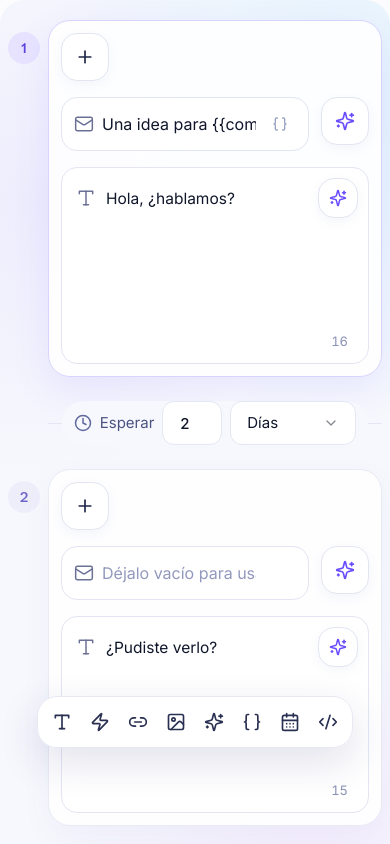
Test case: Editor de secuencia › el botón {} del asunto mete la variable donde está el cursor, y se guarda
Replace the text in the field showing "Una idea para {{company_name}}" with "Hola , una idea" at (179, 124), box [102,98,256,150]
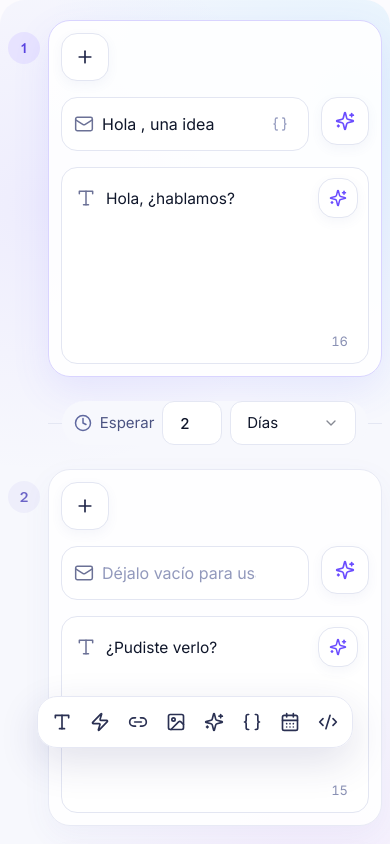
Click the button named "Insertar variable en el asunto" at (280, 124), box [264,108,296,140]
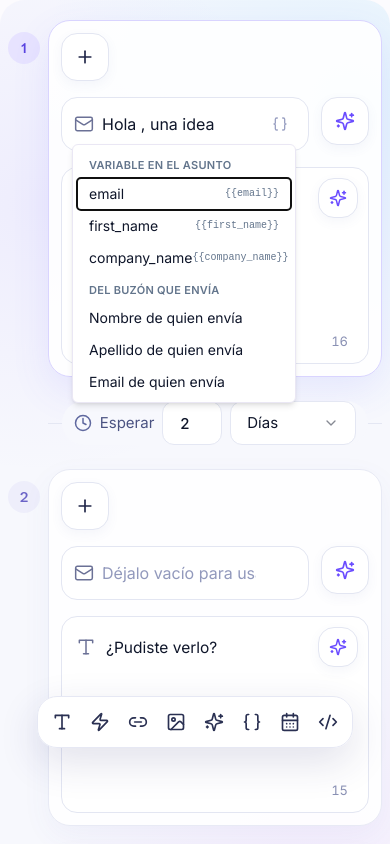
Click the button "first_name {{first_name}}" at (184, 226), box [77,210,291,242]
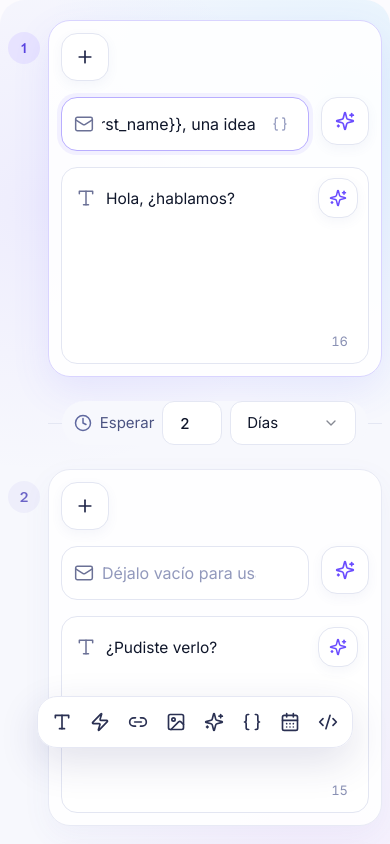
Now the field showing "Una idea para {{company_name}}" holds "Hola {{first_name}}, una idea", box [102,98,256,150]
